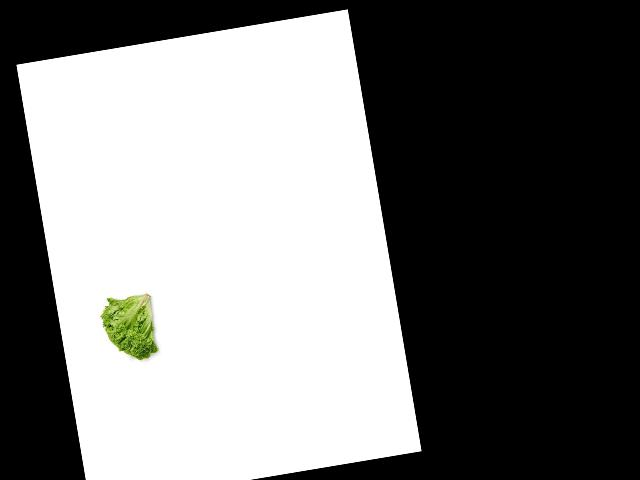lettuce: (94, 287, 166, 369)
